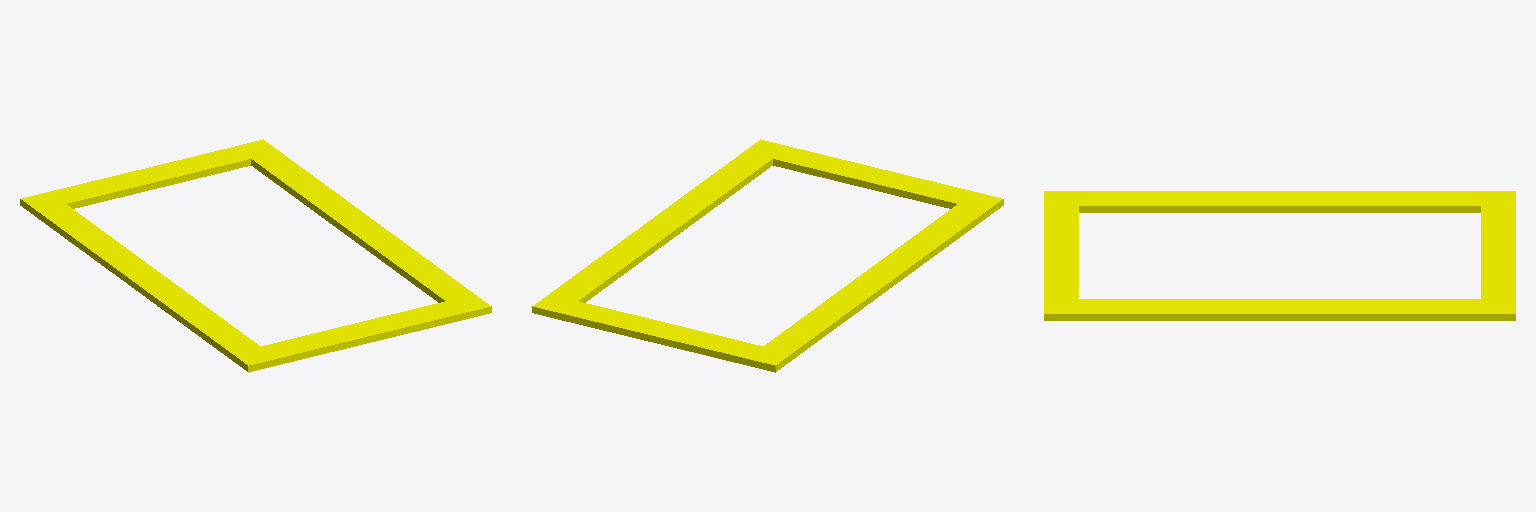
The robot description file, URDF, robot "box.SLDPRT":
<?xml version="1.0" encoding="utf-8"?>
<!-- This URDF was automatically created by SolidWorks to URDF Exporter! Originally created by [author] ([email redacted]) 
     Commit Version: 1.5.1-0-g916b5db  Build Version: 1.5.7152.31018
     For more information, please see http://wiki.ros.org/sw_urdf_exporter -->
<robot
  name="box.SLDPRT">
  <link
    name="box.SLDPRT">
    <inertial>
      <origin
        xyz="1.2996E-17 1.20353843572399E-16 0.16926"
        rpy="0 0 0" />
      <mass
        value="0" />
      <inertia
        ixx="1.73042"
        ixy="-1.2824E-17"
        ixz="-2.8299E-17"
        iyy="1.73042"
        iyz="2.85579897269348E-17"
        izz="1.0053" />
    </inertial>
    <visual>
      <origin
        xyz="0 0 0"
        rpy="1.5707963267949 0 1.5707963267949" />
      <geometry>
        <mesh
          filename="models/meshes/platform/platform.STL" scale="10 10 10"/>
      </geometry>
      <material
        name="">
        <color
          rgba="1 1 0 1" />
      </material>
    </visual>
    <collision>
      <origin
        xyz="0 0 0"
        rpy="1.5707963267949 0 1.5707963267949" />
      <geometry>
        <mesh
          filename="models/meshes/platform/platform.STL" scale="10 10 10"/>
      </geometry>
    </collision>
  </link>
</robot>

--- What the picture shows (computed from the rendered views, not written in the file) ---
Views: 3 orthographic renders of the robot side by side, from view 1: azimuth 30°, elevation 25°; view 2: azimuth 150°, elevation 25°; view 3: azimuth 270°, elevation 25°.
Robot: box.SLDPRT — 1 links, 0 joints (none); root link box.SLDPRT; default pose: every joint at zero.
Links seen in each view (by area): view 1: box.SLDPRT; view 2: box.SLDPRT; view 3: box.SLDPRT.
Link boxes in pixels (bbox=[...]): box.SLDPRT: bbox=[20, 139, 491, 372]; box.SLDPRT: bbox=[532, 139, 1003, 372]; box.SLDPRT: bbox=[1044, 191, 1515, 320].
Size in the robot's own frame: 0.7448 by 1.21 by 0.02 metres.
Meshes: 1 distinct files referenced, 1 mesh visuals loaded (1 binary STL).